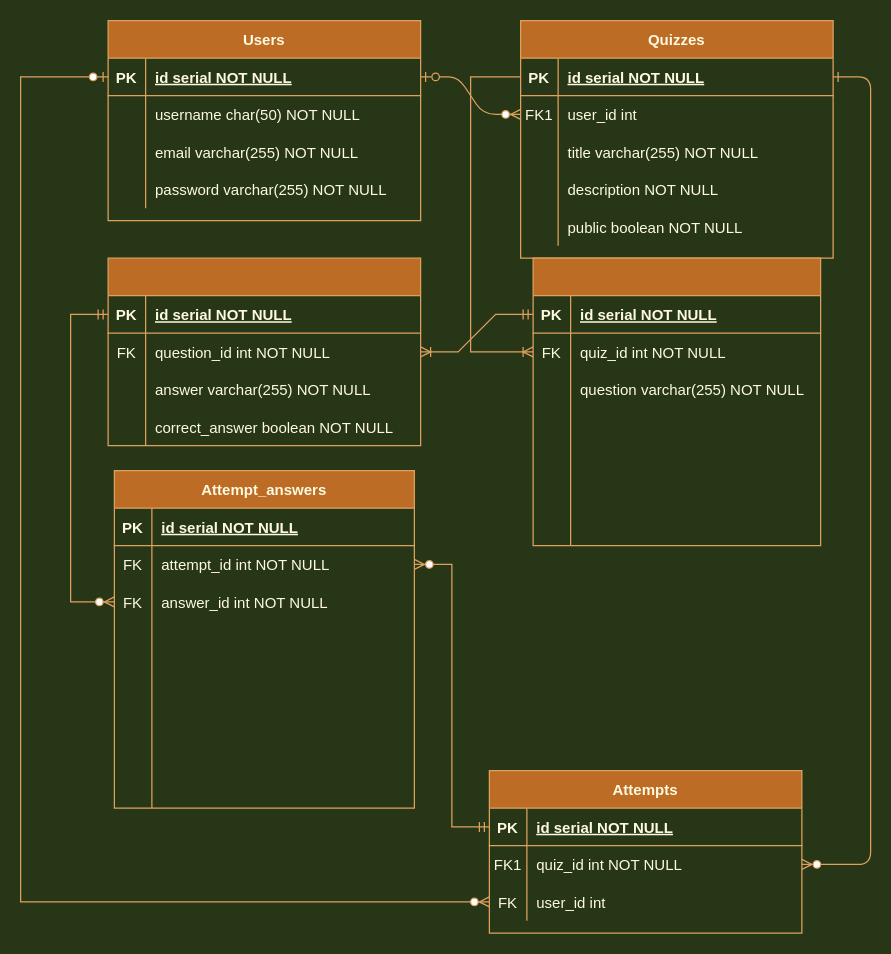
This 891x954 diagram has some shape labels left out. Each missing label, with the box of its shape:
Answers: (107, 257, 421, 446)
Questions: (532, 257, 821, 546)
